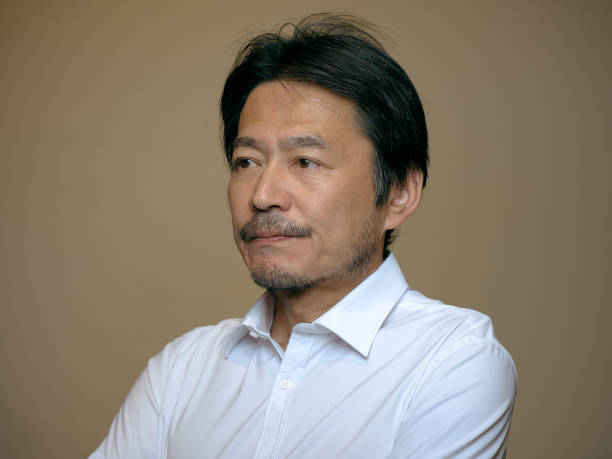person: (219, 28, 431, 295)
